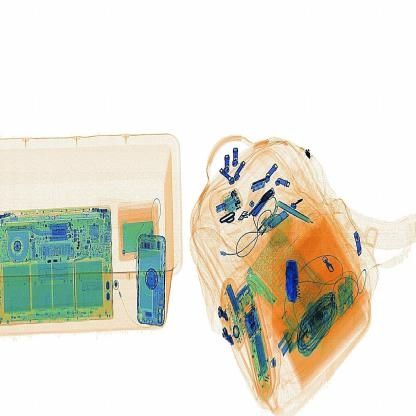scissors: (282, 254, 310, 308)
